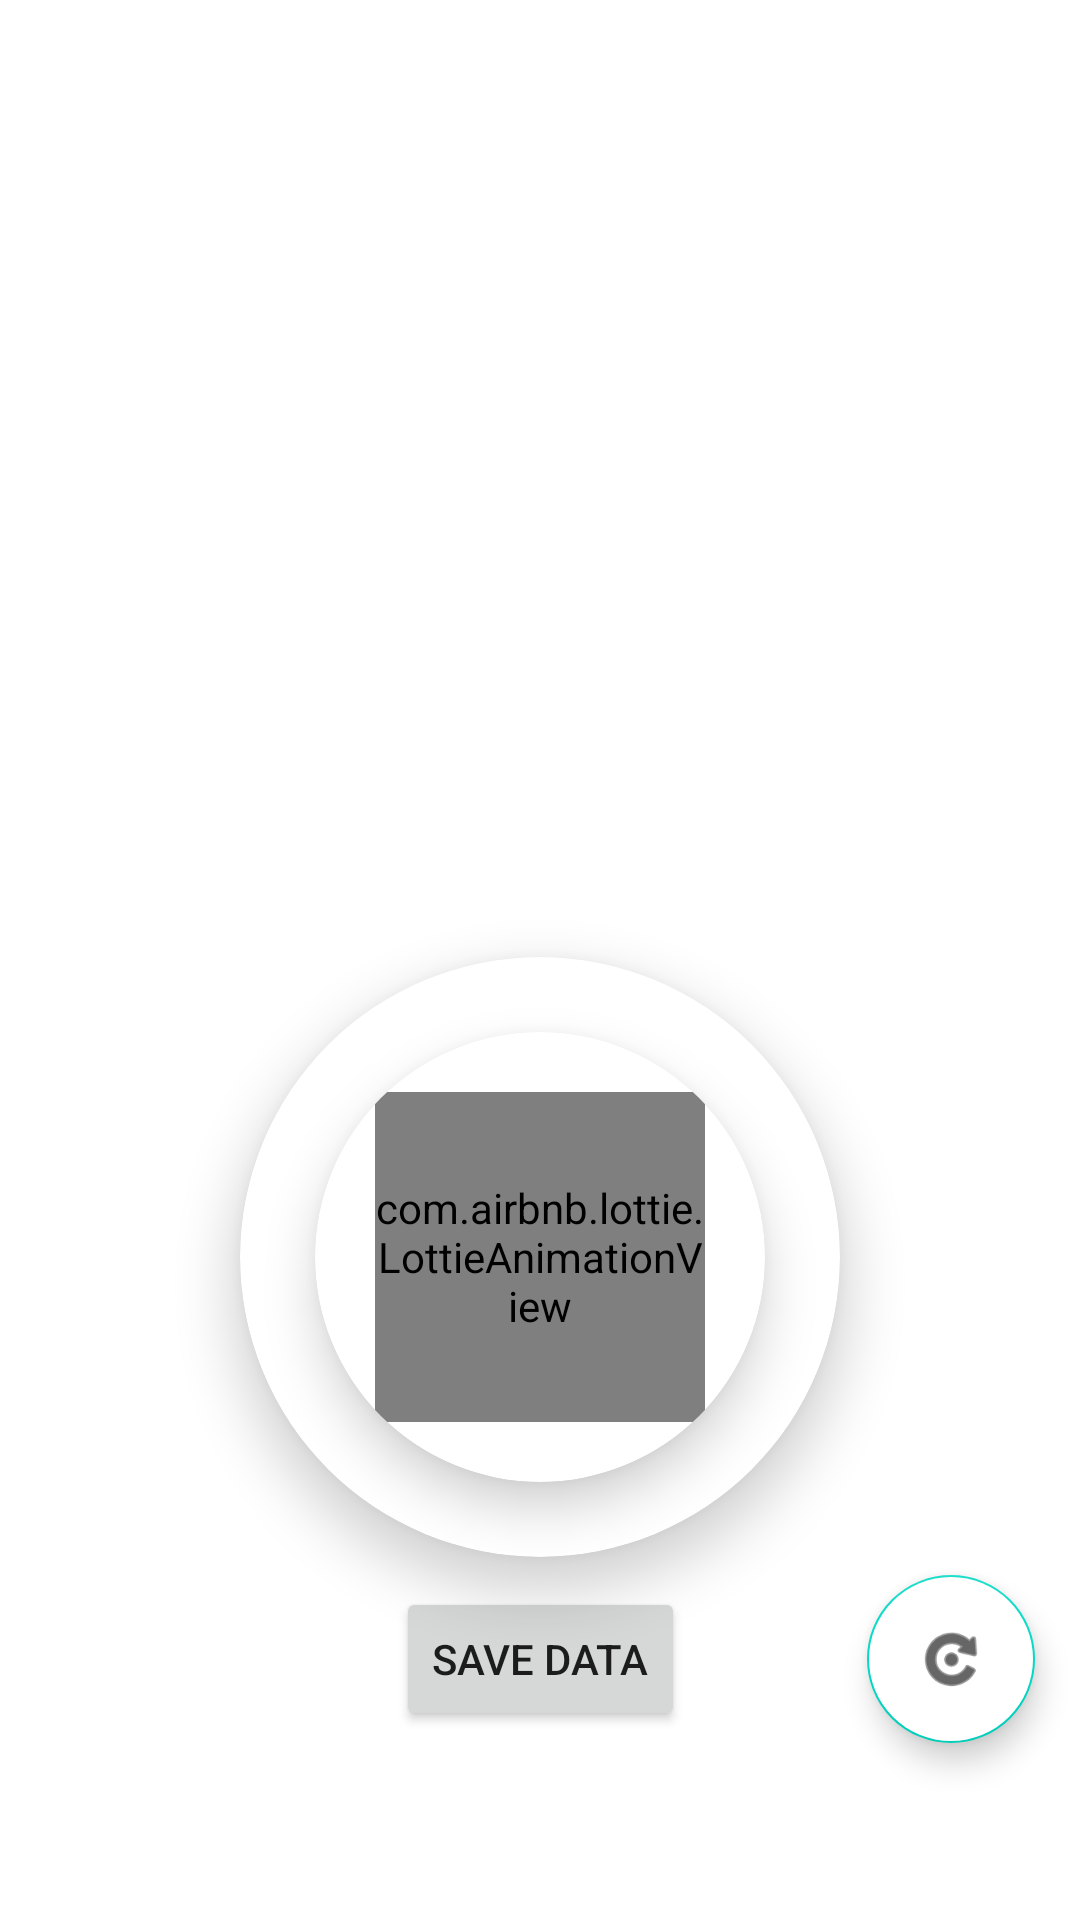

Point at icon controls on the screen. Image size 1080*1920, points as point (x, y).
rotate: point (951, 1659)
